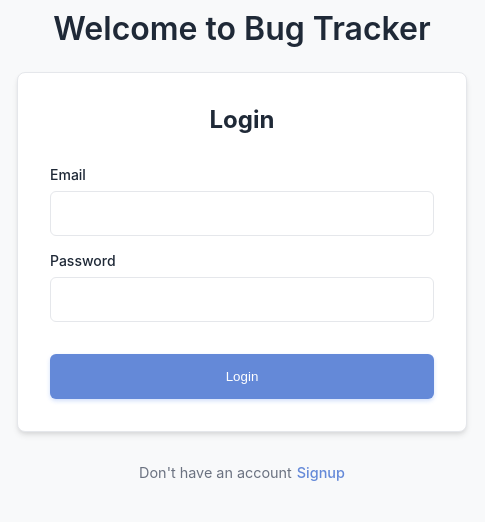
Login flow › shows email required error when email is touched and empty
Focus the field with test id "email-input" at (242, 214), box x1=50 y1=191 x2=434 y2=236
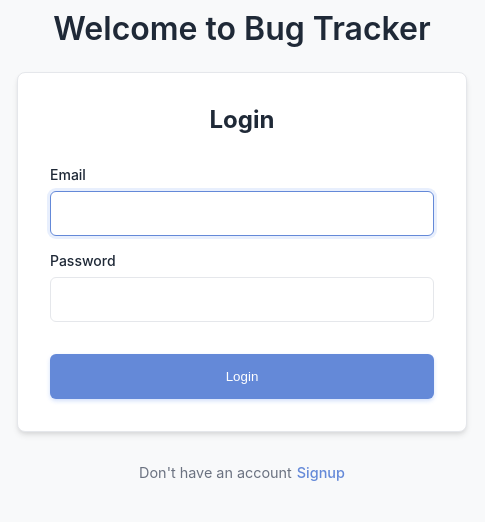
Leave the field with test id "email-input", box x1=50 y1=191 x2=434 y2=236
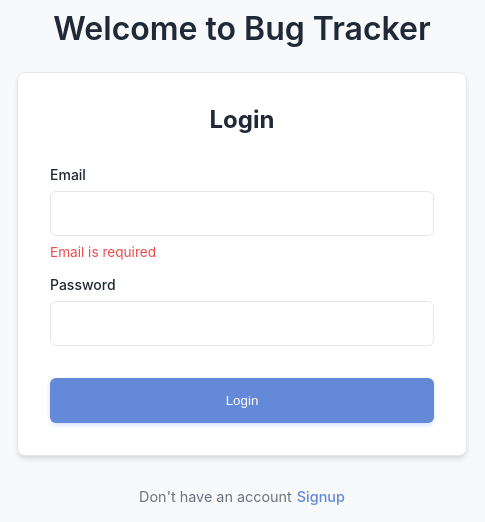
Result: the text "Email is required" is shown at x1=50 y1=244 x2=156 y2=260
